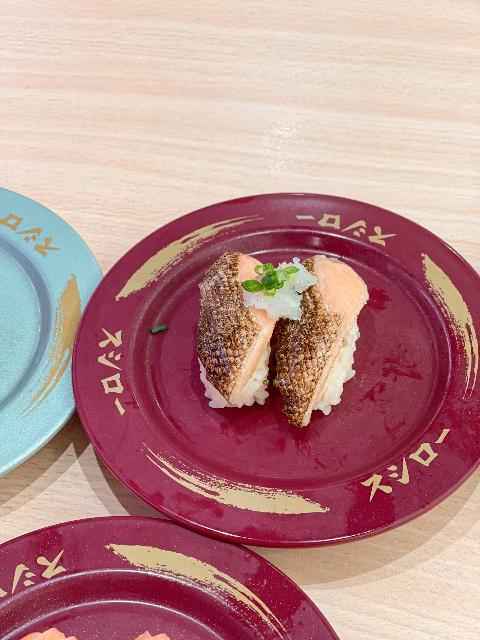janwhite: (102, 188, 480, 528), (7, 509, 373, 640), (0, 172, 93, 482)
